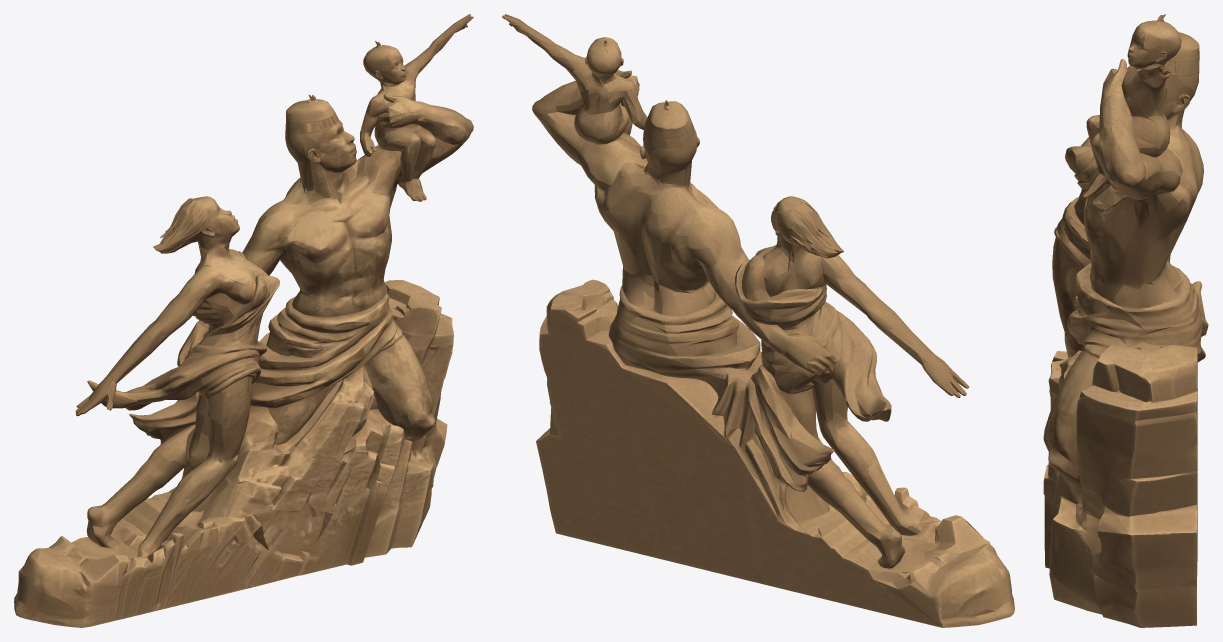
File: renaissance_group.glb
3 renders of one model, left to right at view 1: azimuth 30°, elevation 25°; view 2: azimuth 150°, elevation 25°; view 3: azimuth 270°, elevation 25°, orthographic. The views are drawn at different scales.
Parts seen in each view (by area): view 1: monument_group; view 2: monument_group; view 3: monument_group.
Part boxes in pixels (x1,y1,x2,y2): monument_group: (14, 14, 473, 627); monument_group: (502, 14, 1014, 627); monument_group: (1043, 14, 1208, 627).
Size of the model in its own units: 1.88 by 1.81 by 0.4556.
Materials: 1 (1 with a texture image).
